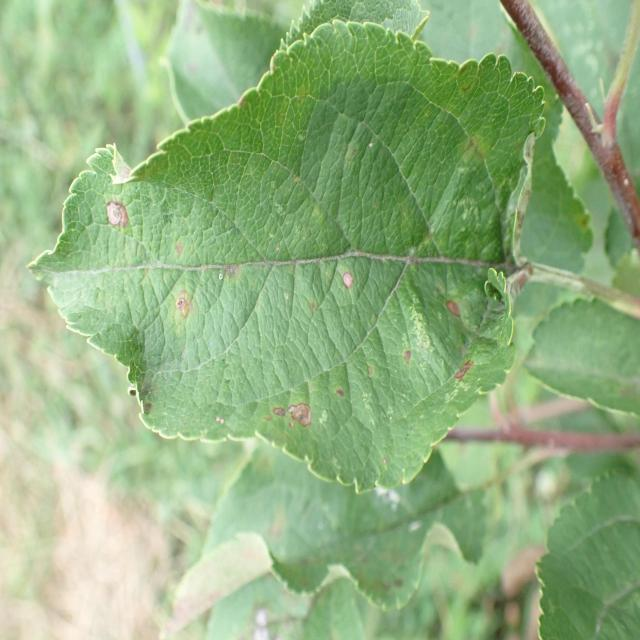frog-eye-leaf-spot: (24, 11, 549, 494)
